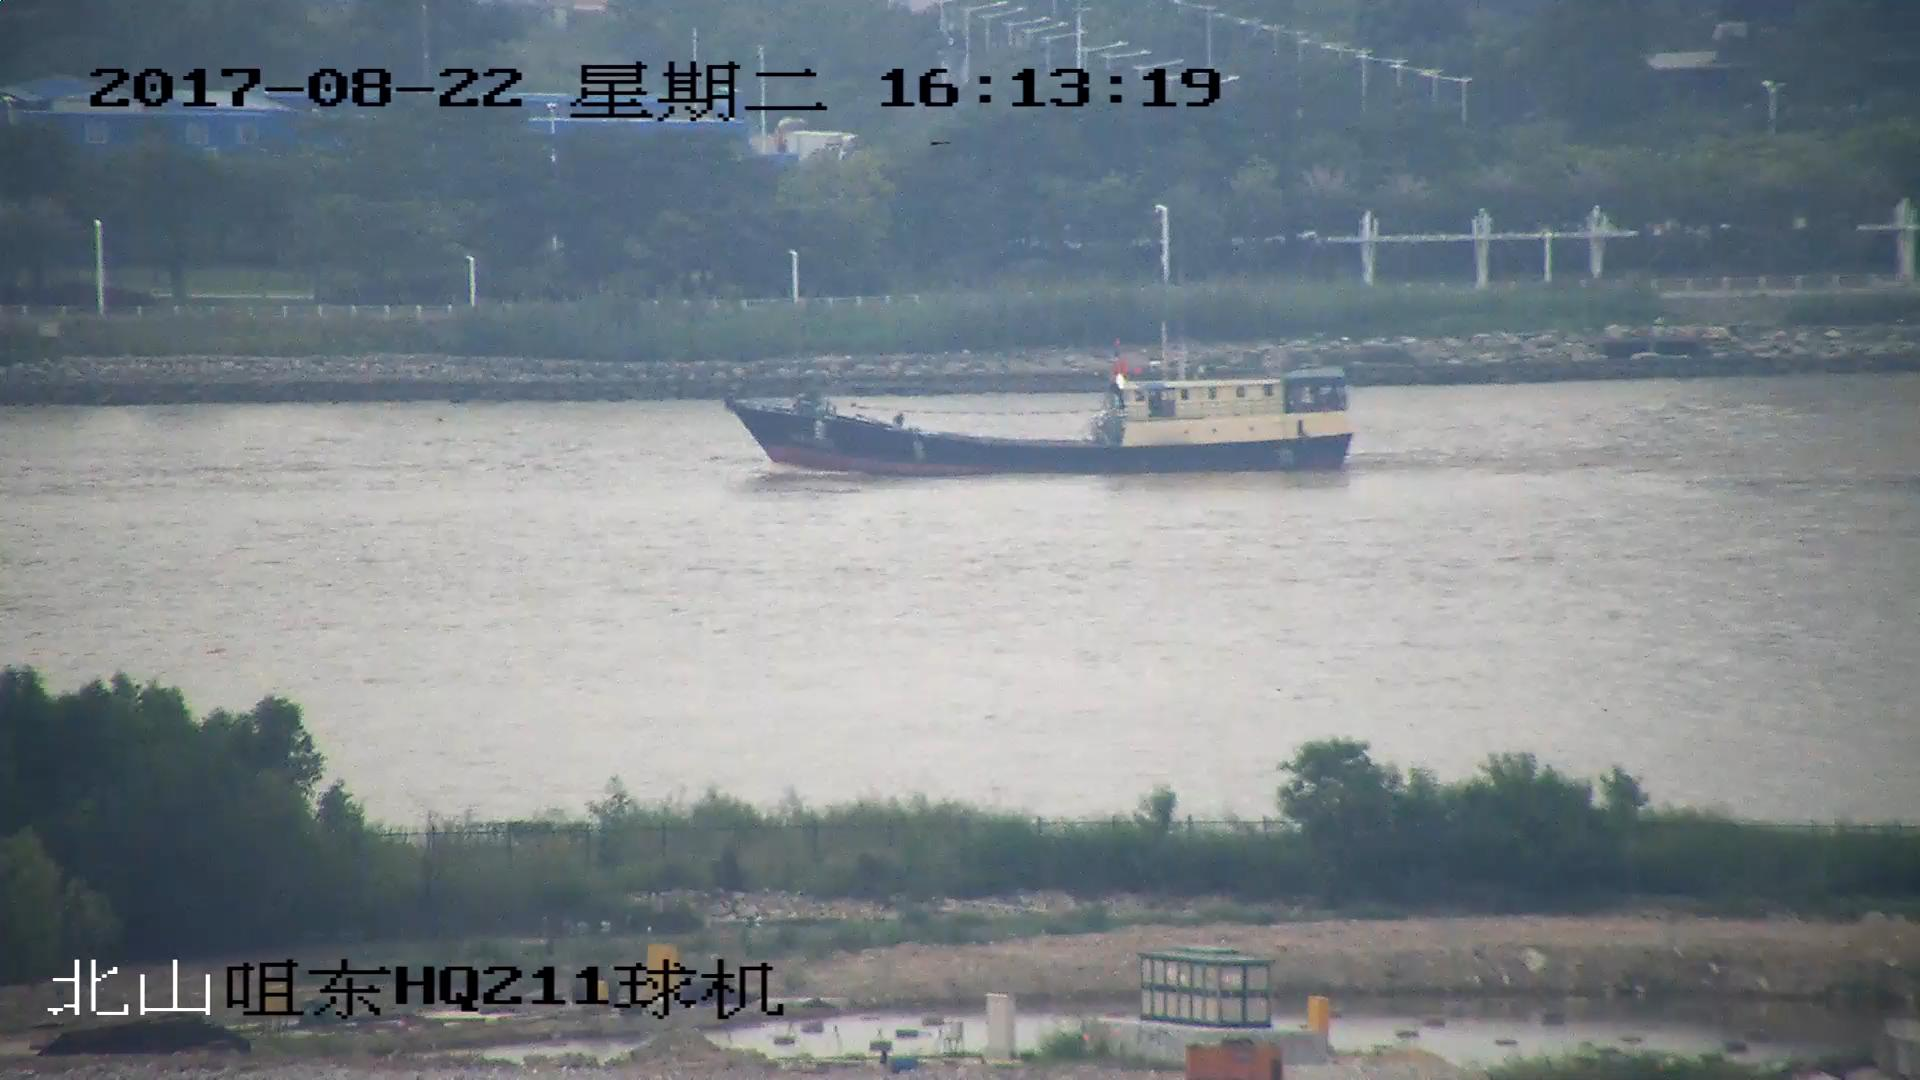fishing boat: (723, 341, 1354, 477)
